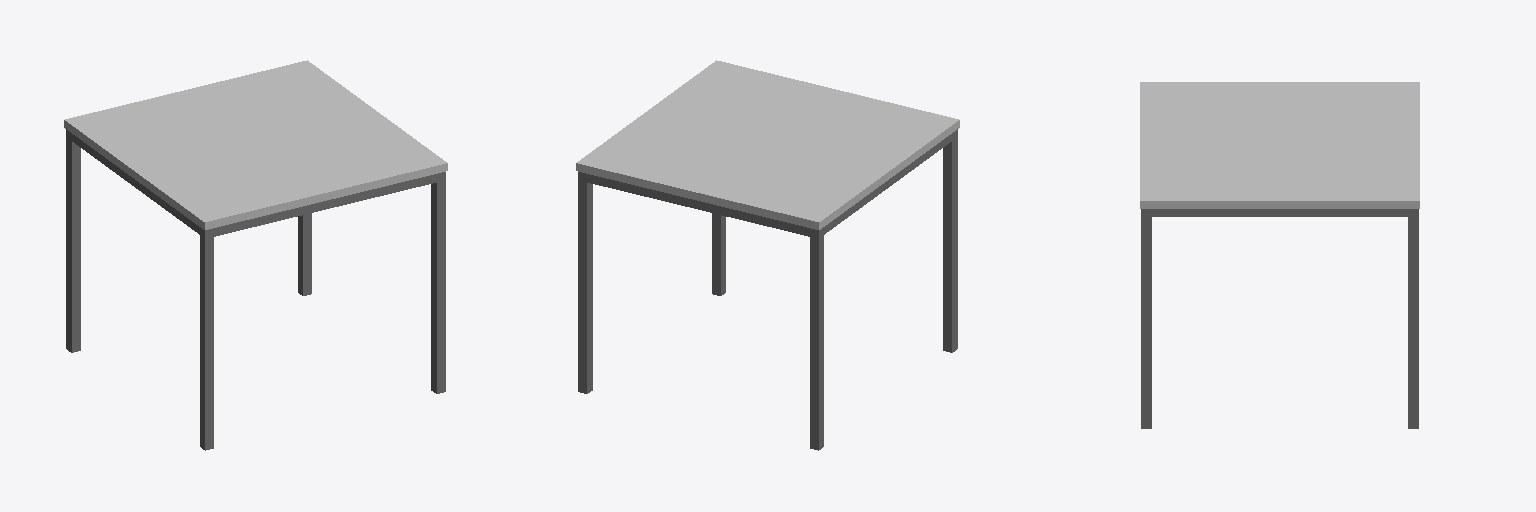
3 renders of one model, left to right at view 1: azimuth 30°, elevation 25°; view 2: azimuth 150°, elevation 25°; view 3: azimuth 270°, elevation 25°, orthographic.
Bounding box in the file's own units: 0.8 × 0.72 × 0.8.
2 materials, 2 textured.